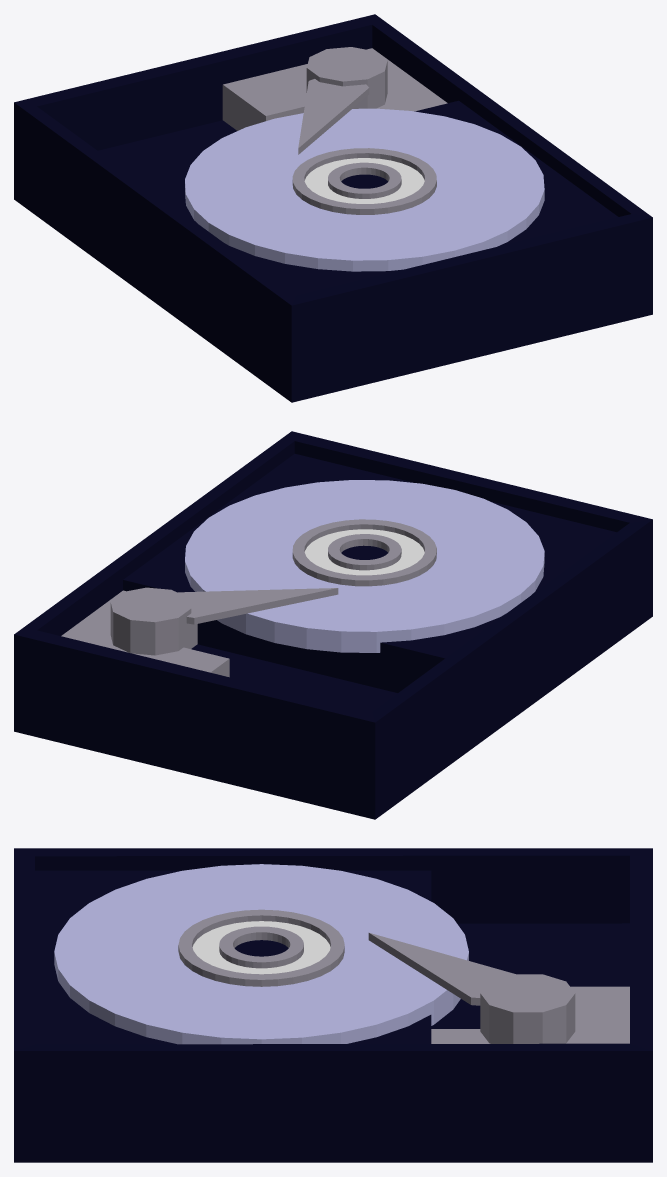
File: disk.fbx
The picture shows the model from 3 angles, top to bottom: view 1: azimuth 30°, elevation 25°; view 2: azimuth 150°, elevation 25°; view 3: azimuth 270°, elevation 25°; orthographic projection. The views are drawn at different scales.
Visible parts, largest first — view 1: Cube; view 2: Cube; view 3: Cube.
Part boxes in pixels (bbox=[...]): Cube: bbox=[14, 14, 652, 402]; Cube: bbox=[14, 431, 652, 819]; Cube: bbox=[14, 848, 652, 1162].
Bounding box in the file's own units: 138 × 39.02 × 184.
